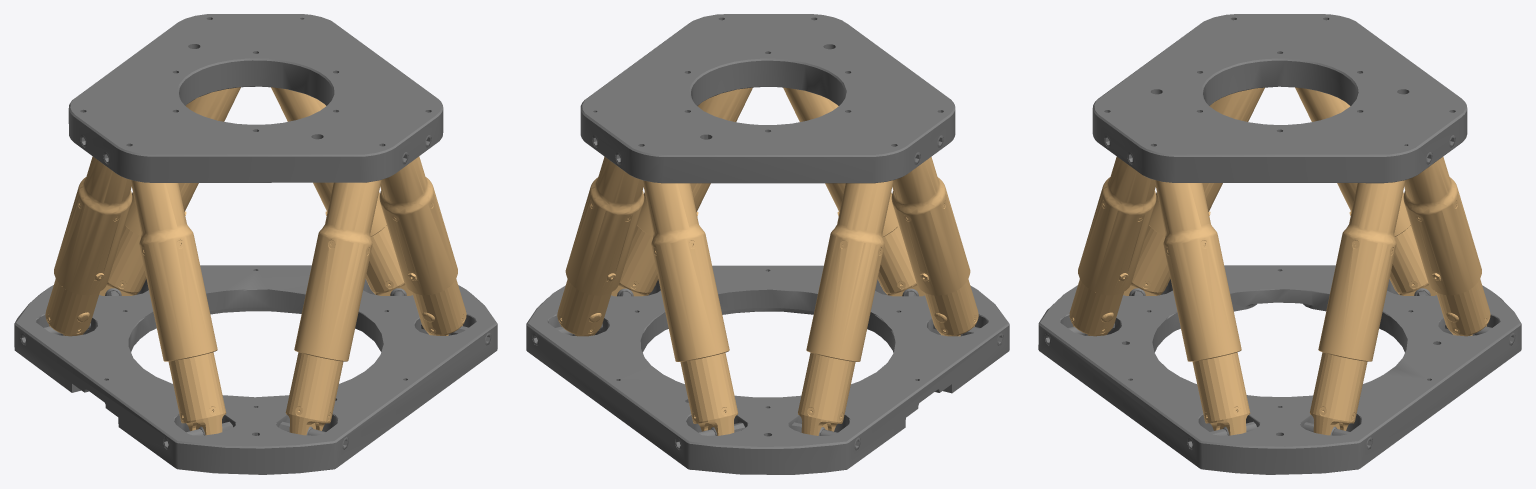
File: hexapod_scene.glb
3 views of the same model, side by side, from view 1: azimuth 30°, elevation 25°; view 2: azimuth 150°, elevation 25°; view 3: azimuth 270°, elevation 25° (orthographic).
Visible parts, largest first — view 1: TopPLate, BasePlate, UpperLeg_6, UpperLeg_5, UpperLeg_4, UpperLeg_1, LowerLeg_6, LowerLeg_5, LowerLeg_4, LowerLeg_1, LowerLeg_2, LowerLeg_3 (+2 smaller); view 2: TopPLate, BasePlate, UpperLeg_3, UpperLeg_4, UpperLeg_2, UpperLeg_5, LowerLeg_4, LowerLeg_3, LowerLeg_5, LowerLeg_2, LowerLeg_1, LowerLeg_6 (+2 smaller); view 3: TopPLate, BasePlate, UpperLeg_2, UpperLeg_1, UpperLeg_6, UpperLeg_3, LowerLeg_2, LowerLeg_1, LowerLeg_6, LowerLeg_3, LowerLeg_4, LowerLeg_5 (+2 smaller).
Part boxes in pixels (bbox=[...]): TopPLate: bbox=[68, 14, 443, 182]; BasePlate: bbox=[14, 265, 497, 474]; UpperLeg_6: bbox=[294, 180, 381, 361]; UpperLeg_5: bbox=[130, 180, 217, 361]; UpperLeg_4: bbox=[54, 156, 132, 295]; UpperLeg_1: bbox=[379, 156, 457, 295]; LowerLeg_6: bbox=[285, 352, 343, 435]; LowerLeg_5: bbox=[168, 352, 226, 435]; LowerLeg_4: bbox=[45, 279, 99, 336]; LowerLeg_1: bbox=[412, 279, 466, 335]; LowerLeg_2: bbox=[365, 225, 412, 295]; LowerLeg_3: bbox=[99, 225, 146, 295]; TopPLate: bbox=[580, 14, 955, 183]; BasePlate: bbox=[526, 265, 1009, 474]; UpperLeg_3: bbox=[642, 180, 729, 361]; UpperLeg_4: bbox=[806, 180, 893, 361]; UpperLeg_2: bbox=[565, 156, 644, 295]; UpperLeg_5: bbox=[891, 156, 970, 295]; LowerLeg_4: bbox=[798, 352, 855, 435]; LowerLeg_3: bbox=[680, 352, 738, 435]; LowerLeg_5: bbox=[924, 279, 978, 336]; LowerLeg_2: bbox=[557, 279, 611, 336]; LowerLeg_1: bbox=[611, 226, 658, 296]; LowerLeg_6: bbox=[877, 226, 924, 296]; TopPLate: bbox=[1092, 14, 1467, 183]; BasePlate: bbox=[1038, 265, 1521, 474]; UpperLeg_2: bbox=[1318, 180, 1405, 361]; UpperLeg_1: bbox=[1154, 180, 1241, 361]; UpperLeg_6: bbox=[1078, 156, 1156, 295]; UpperLeg_3: bbox=[1403, 157, 1481, 295]; LowerLeg_2: bbox=[1309, 352, 1367, 435]; LowerLeg_1: bbox=[1192, 352, 1250, 435]; LowerLeg_6: bbox=[1069, 279, 1123, 336]; LowerLeg_3: bbox=[1436, 279, 1490, 336]; LowerLeg_4: bbox=[1389, 225, 1436, 295]; LowerLeg_5: bbox=[1123, 225, 1170, 295].
Bounding box in the file's own units: 0.2805 × 0.2 × 0.3135.
